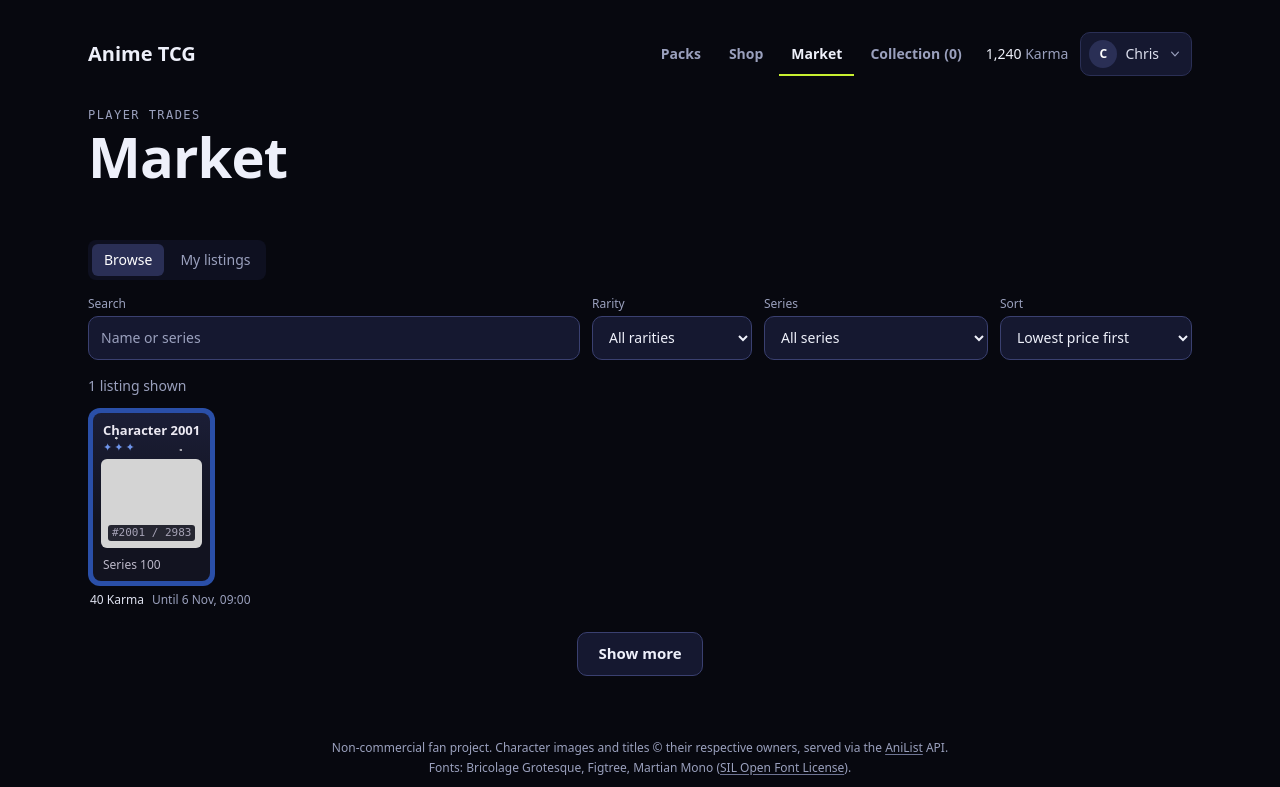
it: /market: Browse (market-and-shop.md §3.4) › a failed next page says so under the list, and Try again asks for it again
Click the button "Show more".
click(640, 654)  # box 577,632 -> 703,676
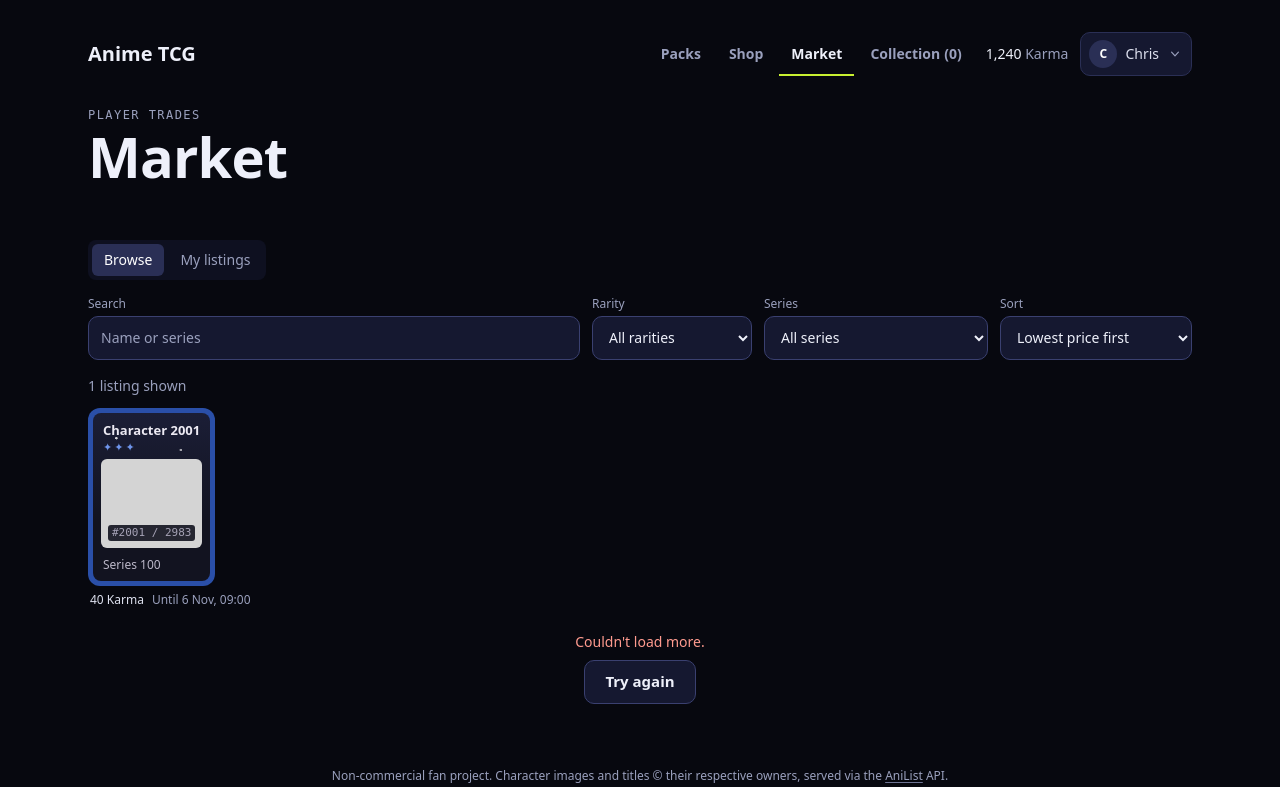
Click the button "Try again".
click(640, 682)  # box 584,660 -> 696,704
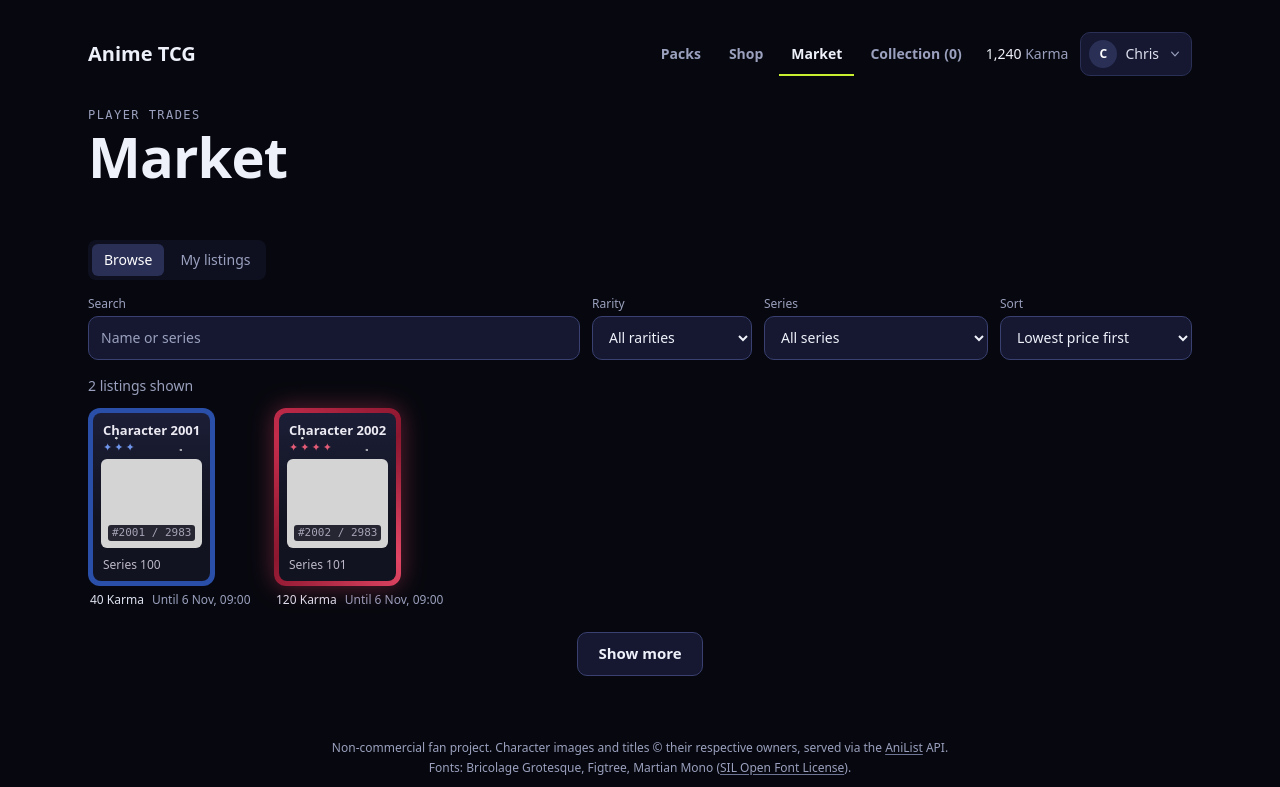
Expected: the text "2 listings shown" is shown, 88,376 -> 193,395
Expected: the button "Show more" is shown, 577,632 -> 703,676
